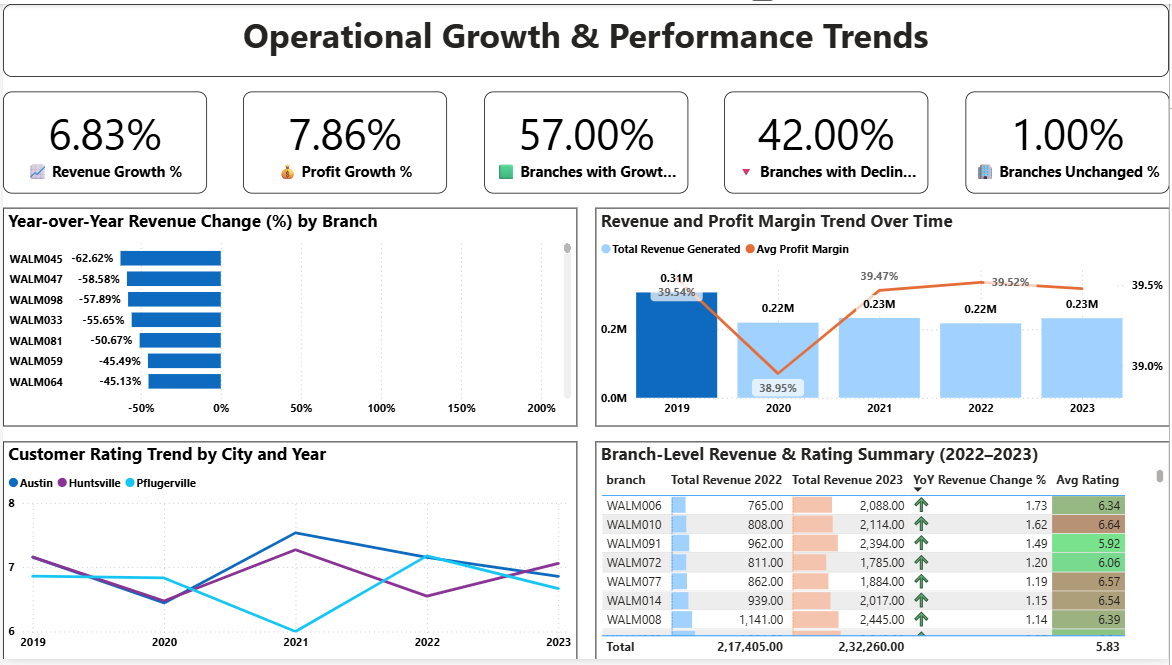

This screenshot's page, from the dashboard's own definition file:
{"tool":"powerbi","page":{"name":"Page 3","canvas":[1280,720],"ordinal":2},"visuals":[{"type":"clusteredBarChart","title":"Year-over-Year Revenue Change (%) by Branch","fields":{"Category":["Walmart_Sales.branch"],"Y":["Calculated_Measures.YoY Revenue Change %"]},"box":[0,224,630,240],"z":0},{"type":"lineStackedColumnComboChart","title":"Revenue and Profit Margin Trend Over Time","fields":{"Category":["Walmart_Sales.Year"],"Y":["Calculated_Measures.Total Revenue"],"Y2":["Calculated_Measures.Avg Profit Margin"]},"box":[650,224,630,240],"z":1000},{"type":"lineChart","title":"Customer Rating Trend by City and Year","fields":{"Category":["Walmart_Sales.Year"],"Series":["Walmart_Sales.city"],"Y":["Avg(Walmart_Sales.rating)"]},"box":[0,480,630,240],"z":2000},{"type":"card","fields":{"Values":["Calculated_Measures.Revenue Growth %"]},"box":[0,96,224,112],"z":4000},{"type":"card","fields":{"Values":["Calculated_Measures.Profit Growth %"]},"box":[264,96,224,112],"z":5000},{"type":"card","fields":{"Values":["Calculated_Measures.Branches with Growth %"]},"box":[528,96,224,112],"z":6000},{"type":"card","fields":{"Values":["Calculated_Measures.Branches with Decline %"]},"box":[792,96,224,112],"z":7000},{"type":"card","fields":{"Values":["Calculated_Measures.Branches Unchanged %"]},"box":[1056,96,224,112],"z":8000},{"type":"textbox","box":[0,0,1280,80],"z":9000},{"type":"tableEx","title":"Branch-Level Revenue & Rating Summary (2022–2023)","fields":{"Values":["Walmart_Sales.branch","Calculated_Measures.Total Revenue 2022","Calculated_Measures.Total Revenue 2023","Calculated_Measures.YoY Revenue Change %","Calculated_Measures.Avg Rating"]},"box":[650,480,630,240],"z":9001}]}

Visuals, with their boxes in screenshot pixels (x1, y1, x2, y2), scaled from the page's 1280x720 canvas onto the 1172x665 screenshot:
"Year-over-Year Revenue Change (%) by Branch" clusteredBarChart: [left=0, top=207, right=577, bottom=429]
"Revenue and Profit Margin Trend Over Time" lineStackedColumnComboChart: [left=595, top=207, right=1171, bottom=429]
"Customer Rating Trend by City and Year" lineChart: [left=0, top=443, right=577, bottom=664]
card - Calculated_Measures.Revenue Growth %: [left=0, top=89, right=205, bottom=192]
card - Calculated_Measures.Profit Growth %: [left=242, top=89, right=447, bottom=192]
card - Calculated_Measures.Branches with Growth %: [left=483, top=89, right=689, bottom=192]
card - Calculated_Measures.Branches with Decline %: [left=725, top=89, right=930, bottom=192]
card - Calculated_Measures.Branches Unchanged %: [left=967, top=89, right=1171, bottom=192]
textbox: [left=0, top=0, right=1171, bottom=74]
"Branch-Level Revenue & Rating Summary (2022–2023)" tableEx: [left=595, top=443, right=1171, bottom=664]
